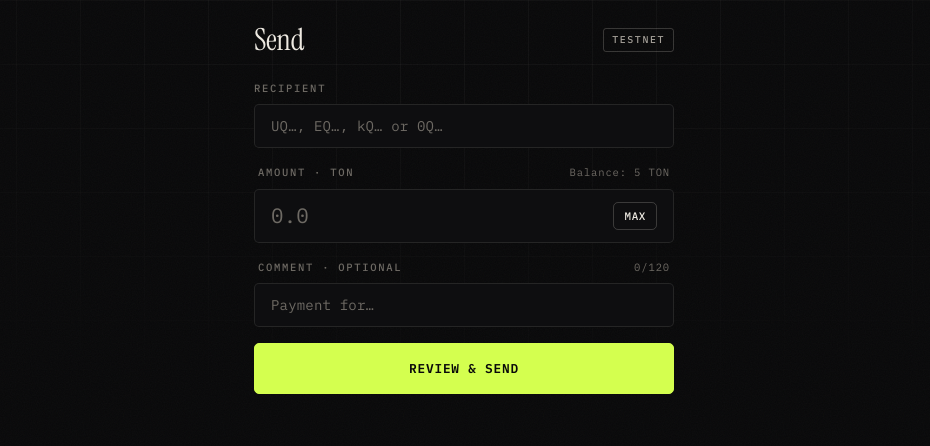
Scenario: Send page — validation › rejects an empty form
Click the button "Review & Send".
click(464, 368)  # box [254, 343, 674, 394]
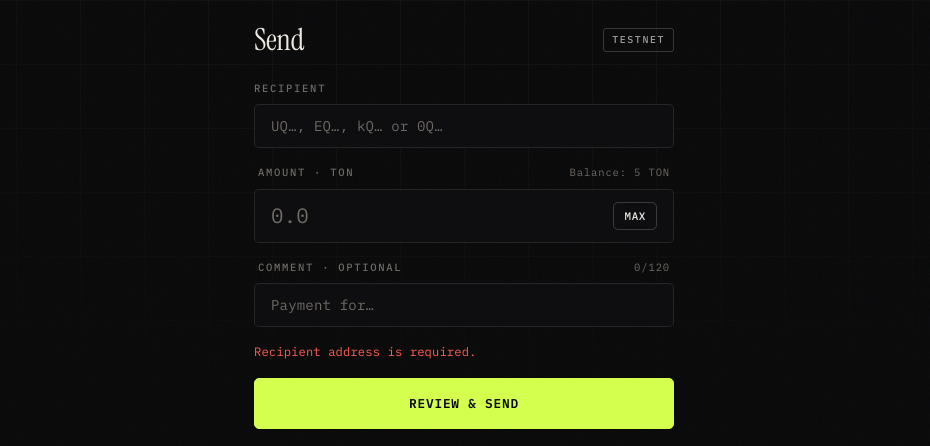
Check: the text "Recipient address is required." is shown, box [254, 344, 476, 359]
